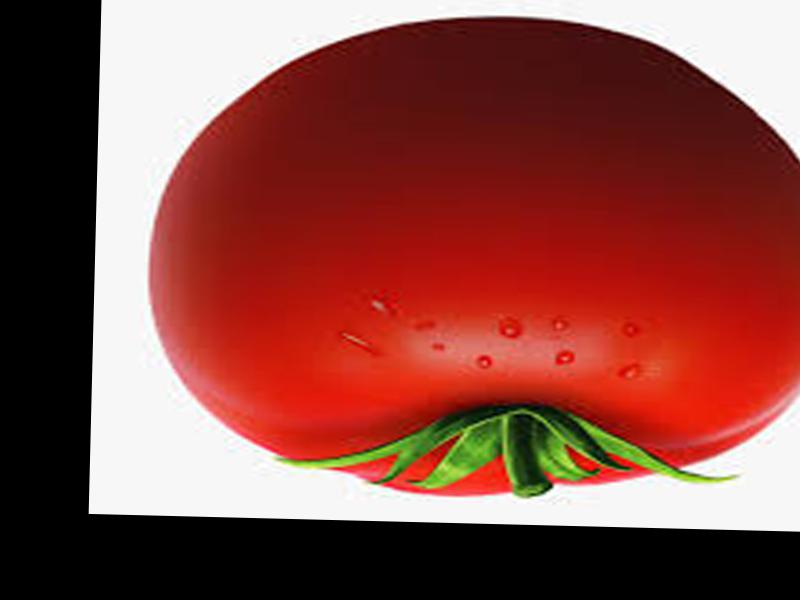Tomato: (226, 9, 800, 505)
